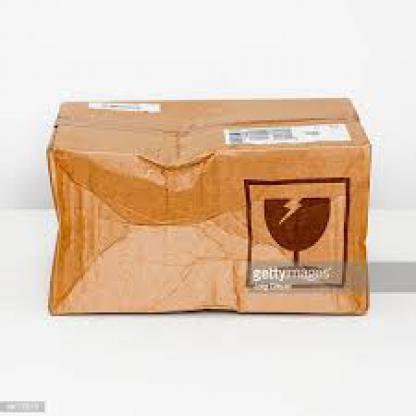paquete: (32, 85, 384, 329)
